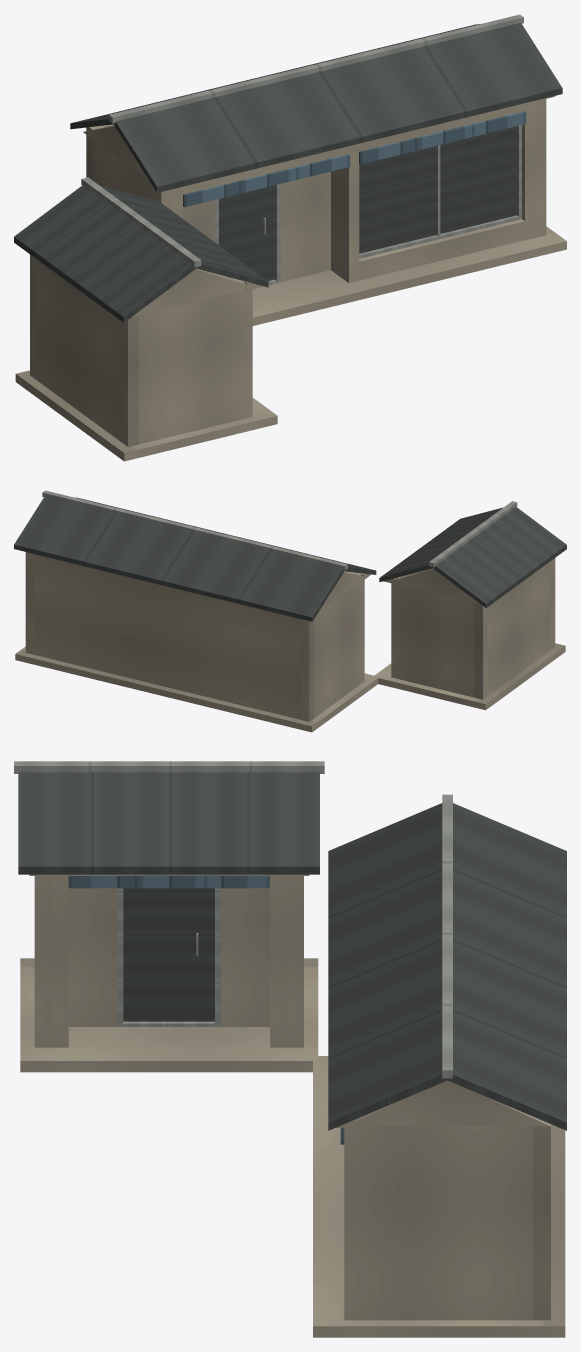
File: sarajevo.glb
3 views of the same model, one above another, from view 1: azimuth 30°, elevation 25°; view 2: azimuth 150°, elevation 25°; view 3: azimuth 270°, elevation 25° (orthographic). The views are drawn at different scales.
Visible parts, largest first — view 1: sarajevo; view 2: sarajevo; view 3: sarajevo.
Boxes of the visible parts, left/top/right/bottom form: sarajevo: left=14, top=14, right=566, bottom=461; sarajevo: left=14, top=490, right=566, bottom=732; sarajevo: left=14, top=761, right=566, bottom=1337.
Bounding box in the file's own units: 8.6 × 2.92 × 5.41.
1 material, 1 textured.
